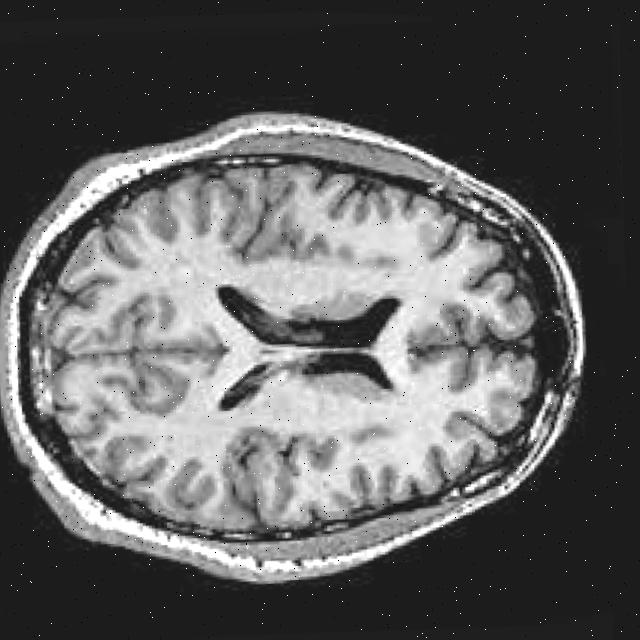NoTumor: (0, 81, 614, 619)
